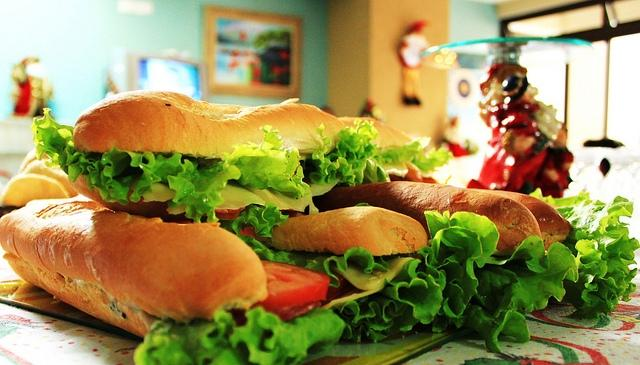lettuce: (424, 210, 578, 318), (529, 189, 640, 322), (132, 306, 346, 365), (380, 226, 483, 325), (304, 118, 379, 186), (275, 246, 390, 288), (462, 304, 530, 352), (340, 298, 410, 344), (219, 204, 270, 236), (474, 261, 516, 296)
tomato: (250, 260, 330, 312), (240, 226, 268, 242), (215, 207, 245, 220), (404, 164, 422, 182)
